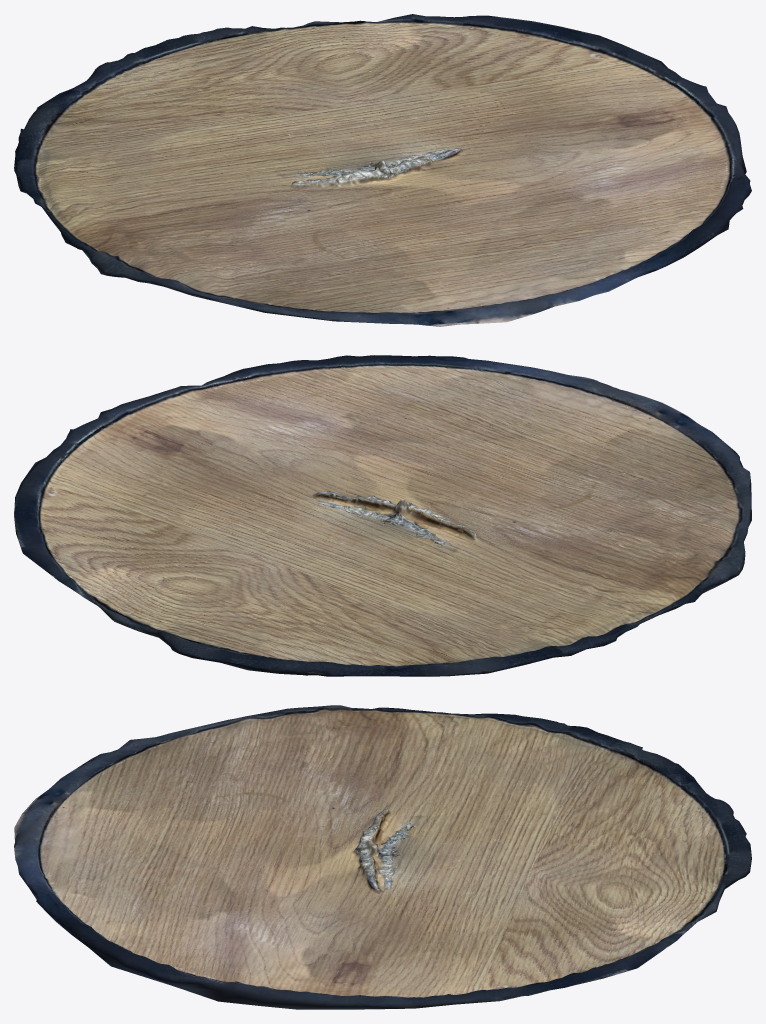
File: 3DModel.obj
The picture shows the model from 3 angles, top to bottom: view 1: azimuth 30°, elevation 25°; view 2: azimuth 150°, elevation 25°; view 3: azimuth 270°, elevation 25°; orthographic projection. The views are drawn at different scales.
Visible parts, largest first — view 1: submesh; view 2: submesh; view 3: submesh.
Part boxes in pixels (x1=…): submesh: x1=14, y1=14, x2=751, y2=326; submesh: x1=14, y1=355, x2=751, y2=676; submesh: x1=14, y1=705, x2=751, y2=1009.
Size of the model in its own units: 0.3941 by 0.016 by 0.4031.
Materials: 1 (1 with a texture image).
